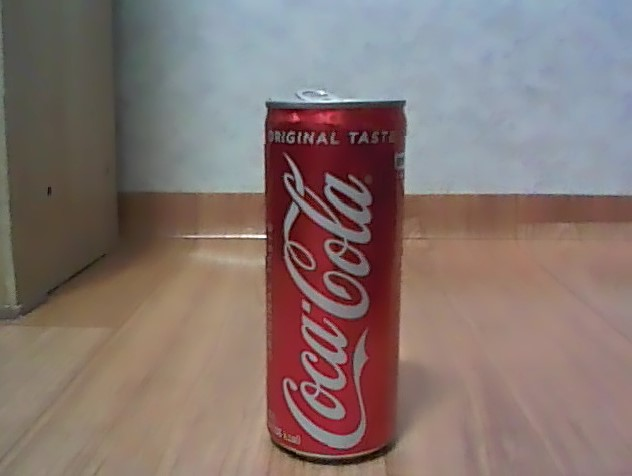Can: (255, 81, 415, 468)
